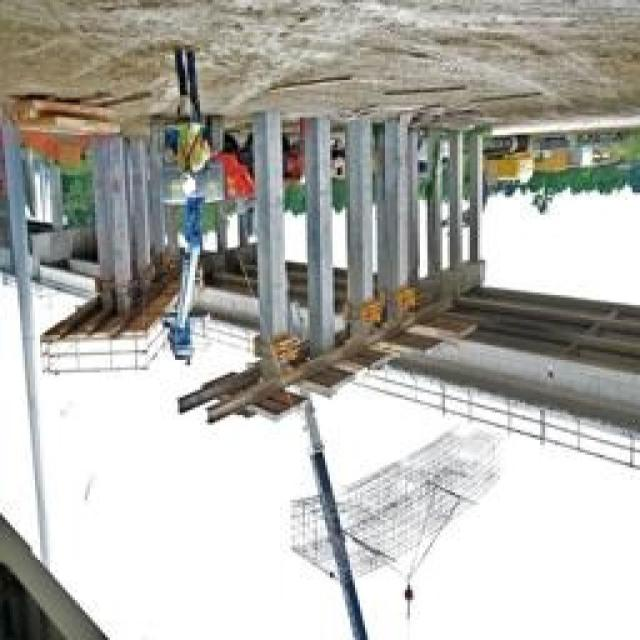Helmet: (172, 156, 196, 201)
Safety Vest: (158, 97, 220, 179)
